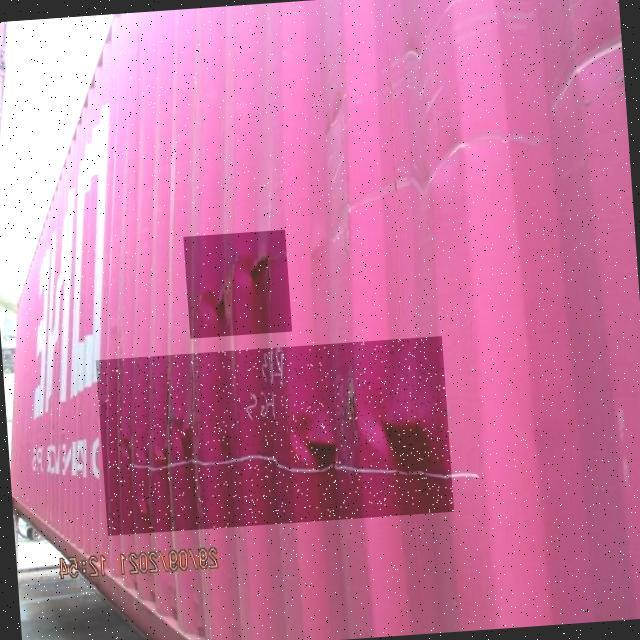Dent: (96, 336, 454, 536)
Minor-Dent: (183, 229, 292, 338)
